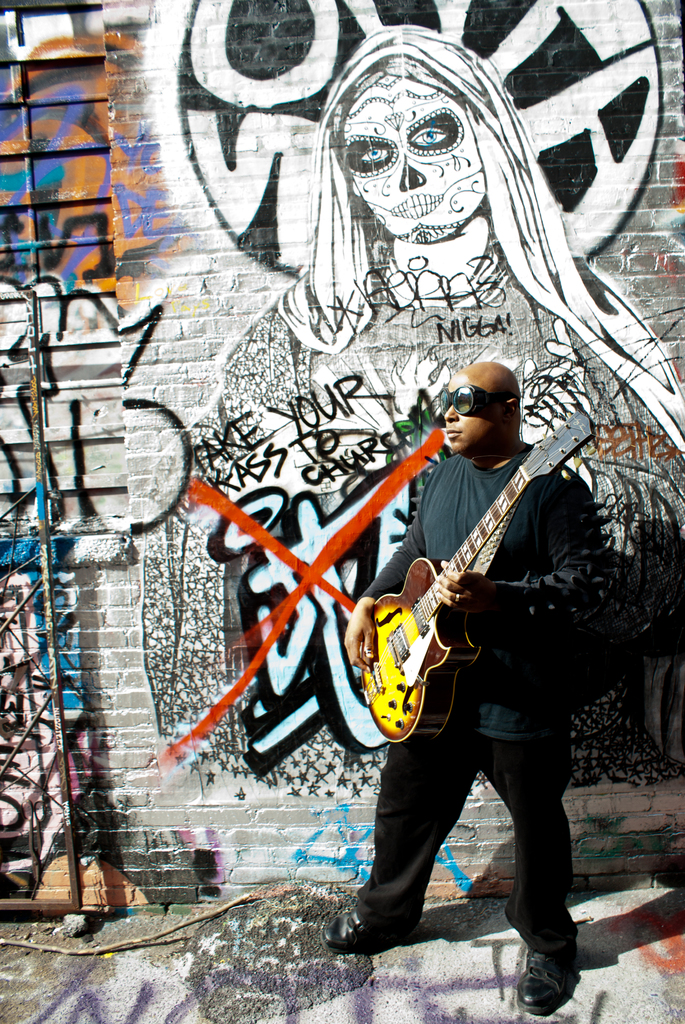Person: (319, 361, 617, 1015)
